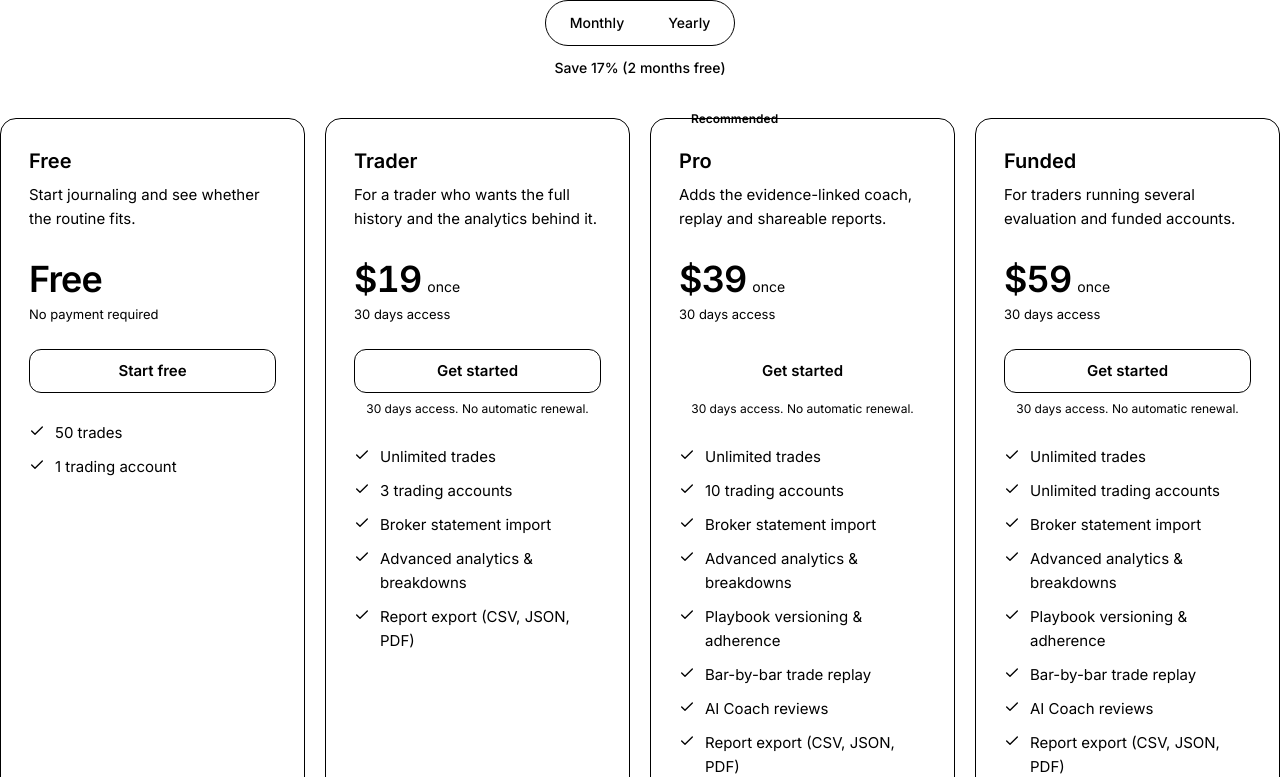
it: yearly view › states a saving equal to what the prices really give
This screenshot has width=1280, height=777.
What coordinates should you click on to do the following:
click the button "Yearly"
I would click on:
 (689, 23)
Its box is [648, 5, 730, 41].
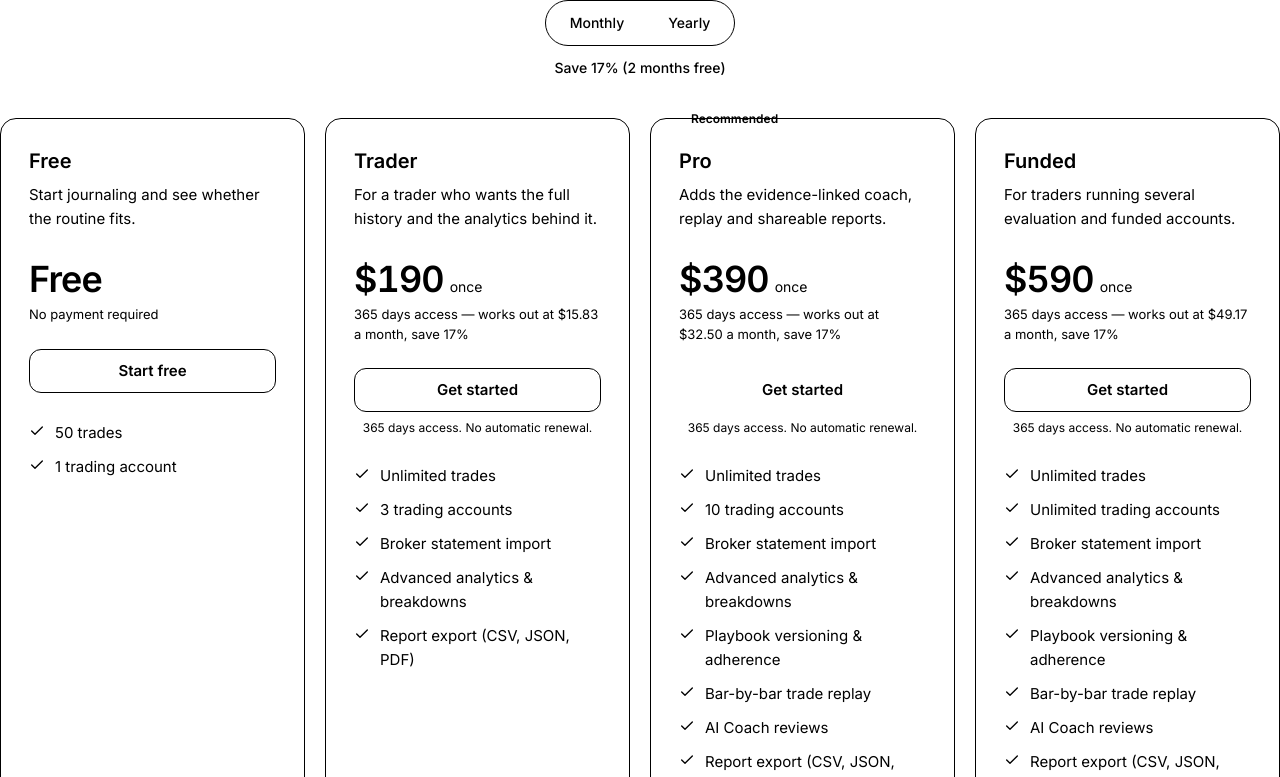
Expected: the text "365 days access — works out at $15.83 a month, save 17%" is shown, [354, 305, 601, 344]
